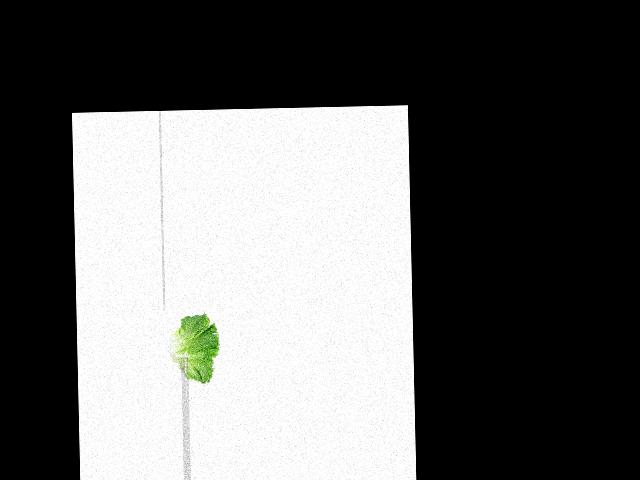lettuce: (167, 313, 219, 381)
